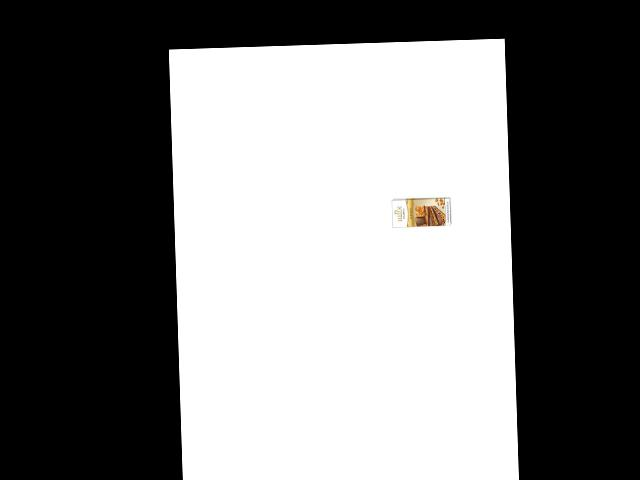chocolate: (387, 186, 453, 233)
